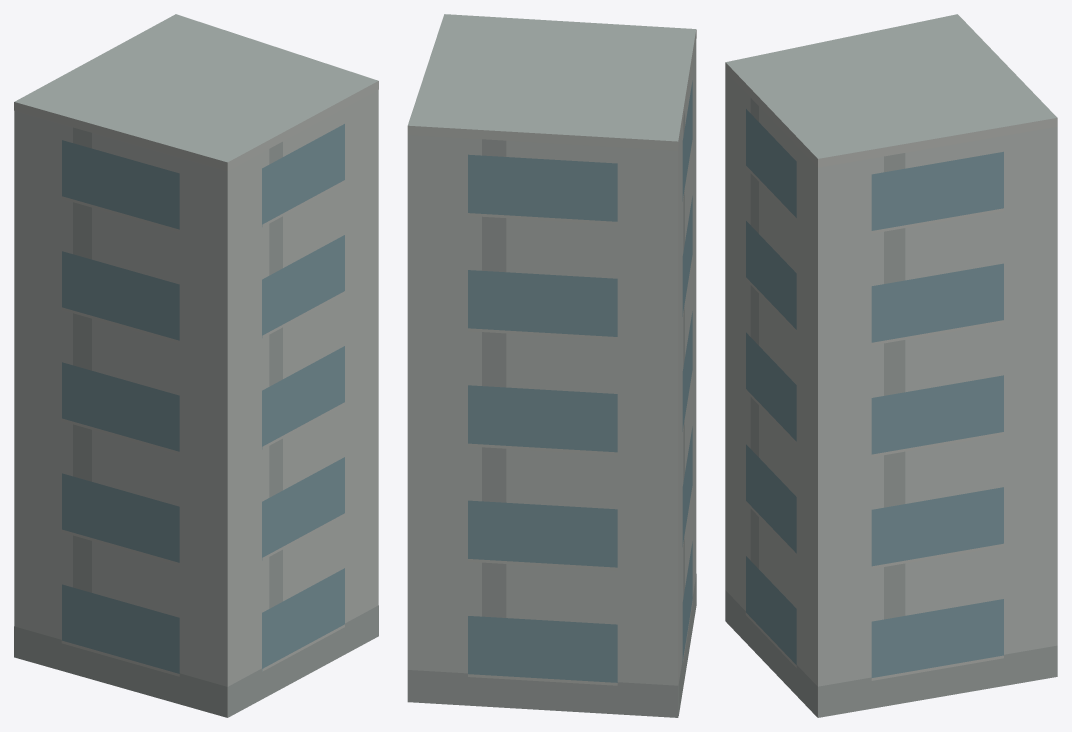
File: survey-upis-32707788.glb
The picture shows the model from 3 angles, left to right: view 1: azimuth 30°, elevation 25°; view 2: azimuth 150°, elevation 25°; view 3: azimuth 270°, elevation 25°; orthographic projection. The views are drawn at different scales.
Visible parts, largest first — view 1: survey-upis-32707788.tmp; view 2: survey-upis-32707788.tmp; view 3: survey-upis-32707788.tmp.
Boxes of the visible parts, bbox=[...] form: survey-upis-32707788.tmp: bbox=[14, 14, 378, 717]; survey-upis-32707788.tmp: bbox=[407, 14, 696, 717]; survey-upis-32707788.tmp: bbox=[725, 14, 1057, 717].
Size of the model in its own units: 8.49 by 15.25 by 8.22.
